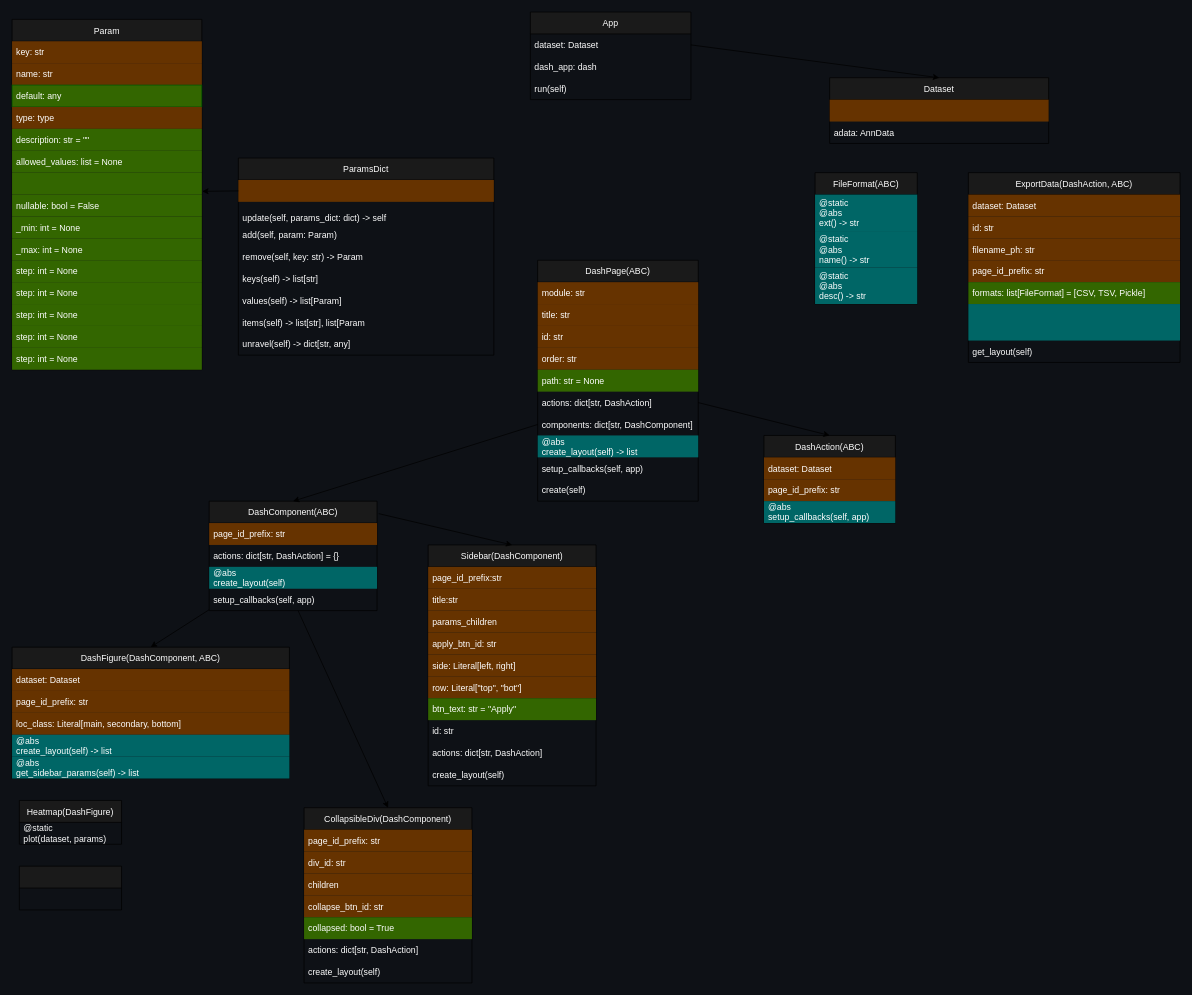
The diagram is 1192 pixels wide and 995 high, and some of its shapes have lost their labels. Each missing label, with the centre of its shape:
@staticmethod @abs _params_layout(self): the point at 1074,322
params: dict[str, Param]: the point at 365,190
path: str: the point at 938,110
placeholder: str = None: the point at 106,183
Projection(DashFigure): the point at 70,887
